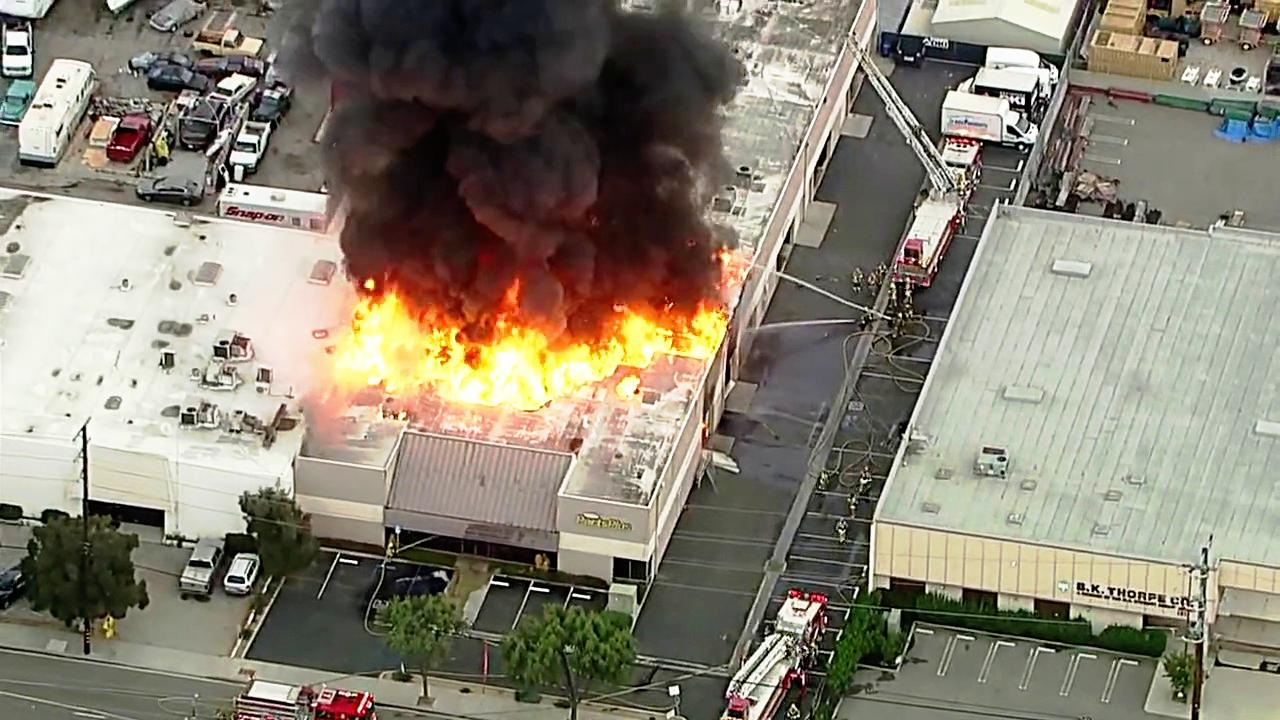fire: (429, 300, 550, 387), (344, 280, 422, 382), (553, 319, 657, 371)
smoke: (354, 0, 650, 272)
